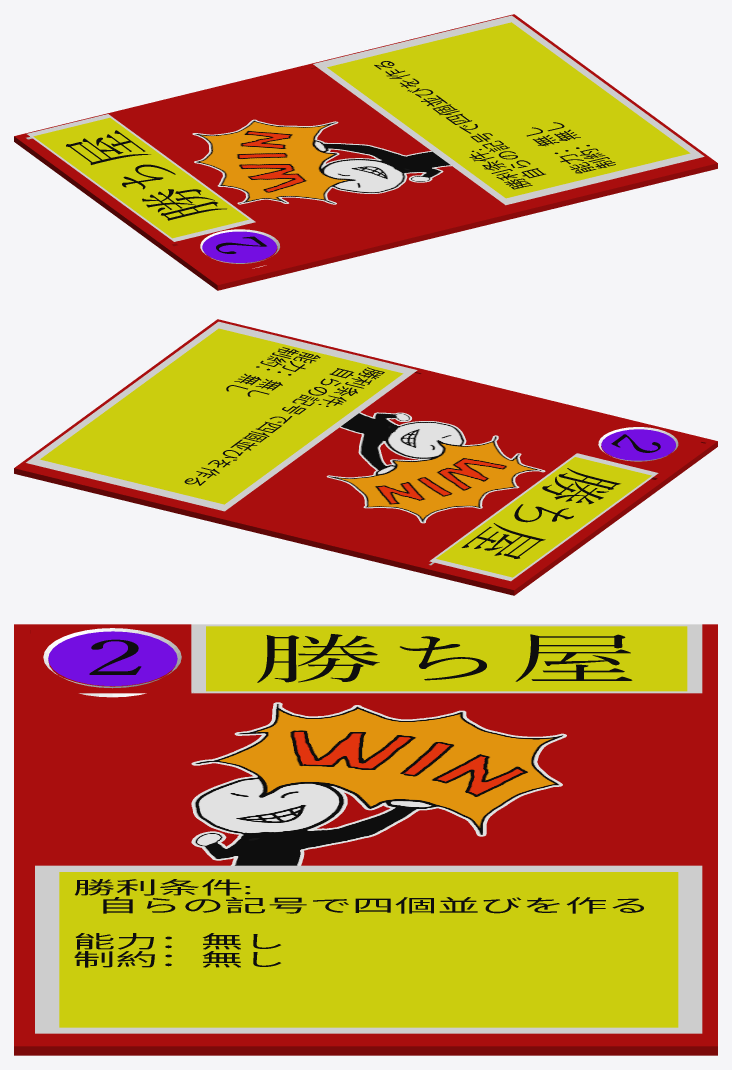
The model's file is 勝ち屋赤.fbx.
3 views of the same model, one above another, from view 1: azimuth 30°, elevation 25°; view 2: azimuth 150°, elevation 25°; view 3: azimuth 270°, elevation 25° (orthographic). The views are drawn at different scales.
Visible parts, largest first — view 1: カード本体.001, 説明欄, 平面.001, 名前欄, 説明文, 名前, 円, 平面; view 2: カード本体.001, 説明欄, 平面.001, 名前欄, 説明文, 名前, 円, 平面; view 3: カード本体.001, 説明欄, 平面.001, 名前欄, 説明文, 平面, 円, 名前, コスト蘭.
Boxes of the visible parts, left/top/right/bottom form: カード本体.001: left=14, top=14, right=717, bottom=290; 説明欄: left=313, top=15, right=704, bottom=205; 平面.001: left=192, top=119, right=451, bottom=204; 名前欄: left=27, top=114, right=255, bottom=241; 説明文: left=374, top=61, right=615, bottom=189; 名前: left=66, top=130, right=226, bottom=220; 円: left=202, top=231, right=276, bottom=262; 平面: left=174, top=222, right=302, bottom=275; カード本体.001: left=14, top=319, right=717, bottom=595; 説明欄: left=26, top=321, right=417, bottom=511; 平面.001: left=326, top=412, right=545, bottom=523; 名前欄: left=429, top=453, right=658, bottom=581; 説明文: left=184, top=347, right=384, bottom=485; 名前: left=461, top=468, right=620, bottom=558; 円: left=601, top=429, right=675, bottom=460; 平面: left=577, top=419, right=704, bottom=472; カード本体.001: left=14, top=624, right=717, bottom=1055; 説明欄: left=35, top=865, right=702, bottom=1033; 平面.001: left=191, top=702, right=566, bottom=865; 名前欄: left=191, top=624, right=702, bottom=693; 説明文: left=74, top=879, right=643, bottom=967; 平面: left=30, top=624, right=191, bottom=693; 円: left=48, top=631, right=177, bottom=686; 名前: left=257, top=634, right=632, bottom=682; コスト蘭: left=43, top=628, right=181, bottom=697.
Size of the model in its own units: 281 by 6.07 by 198.
